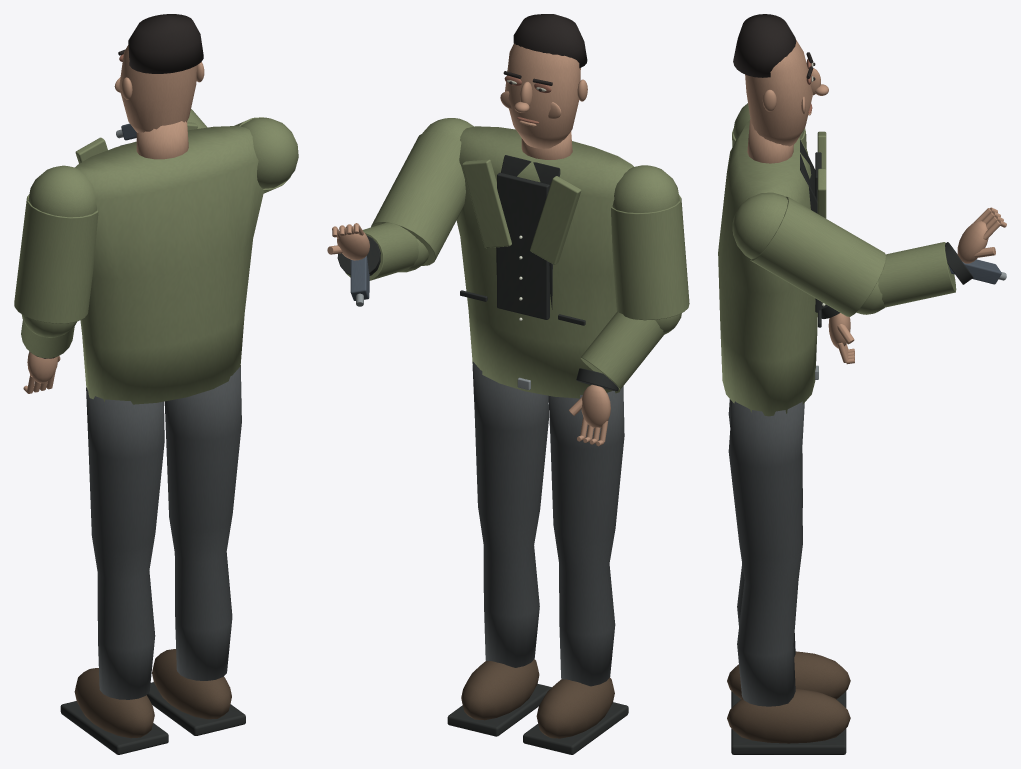
The model's file is enforcer-lod.glb.
3 views of the same model, side by side, from view 1: azimuth 30°, elevation 25°; view 2: azimuth 150°, elevation 25°; view 3: azimuth 270°, elevation 25° (orthographic). The views are drawn at different scales.
Parts seen in each view (by area): view 1: enforcer_lod__BODY, enforcer__LEG_L, enforcer__LEG_R; view 2: enforcer_lod__BODY, enforcer__LEG_R, enforcer__LEG_L; view 3: enforcer_lod__BODY, enforcer__LEG_R, enforcer__LEG_L.
Part boxes in pixels (box(x1,y1,x2,y2)): enforcer_lod__BODY: box(14, 14, 298, 404); enforcer__LEG_L: box(60, 387, 168, 754); enforcer__LEG_R: box(147, 365, 245, 735); enforcer_lod__BODY: box(327, 14, 689, 446); enforcer__LEG_R: box(447, 362, 551, 736); enforcer__LEG_L: box(523, 386, 628, 754); enforcer_lod__BODY: box(718, 14, 1006, 416); enforcer__LEG_R: box(727, 401, 850, 754); enforcer__LEG_L: box(727, 399, 850, 707).
Size of the model in its own units: 0.7099 by 1.76 by 0.6529.
Materials: 1 (1 with a texture image).
